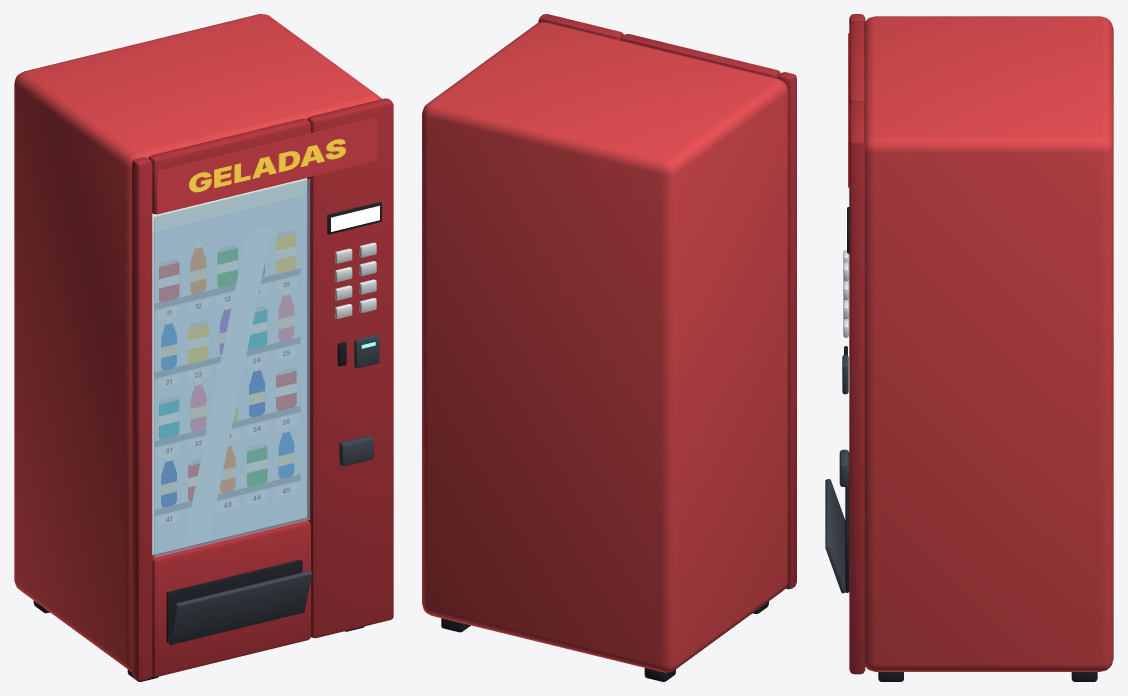
File: maquina_venda_bebidas.glb
The picture shows the model from 3 angles, left to right: view 1: azimuth 30°, elevation 25°; view 2: azimuth 150°, elevation 25°; view 3: azimuth 270°, elevation 25°; orthographic projection. The views are drawn at different scales.
Parts seen in each view (by area): view 1: maquina_venda_bebidas; view 2: maquina_venda_bebidas; view 3: maquina_venda_bebidas.
Boxes of the visible parts, <box> form: maquina_venda_bebidas: <box>14,14,393,681</box>; maquina_venda_bebidas: <box>422,14,796,681</box>; maquina_venda_bebidas: <box>825,14,1113,681</box>.
Bounding box in the file's own units: 0.95 × 1.88 × 0.8942.
6 materials, 3 textured.
